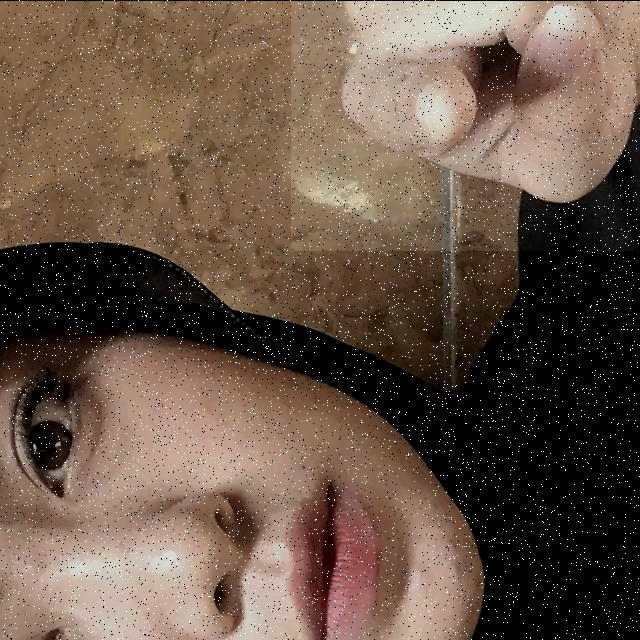kamu: (291, 0, 640, 250)
